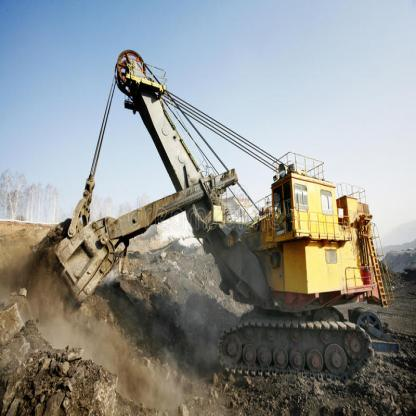excavator: (44, 44, 388, 399)
